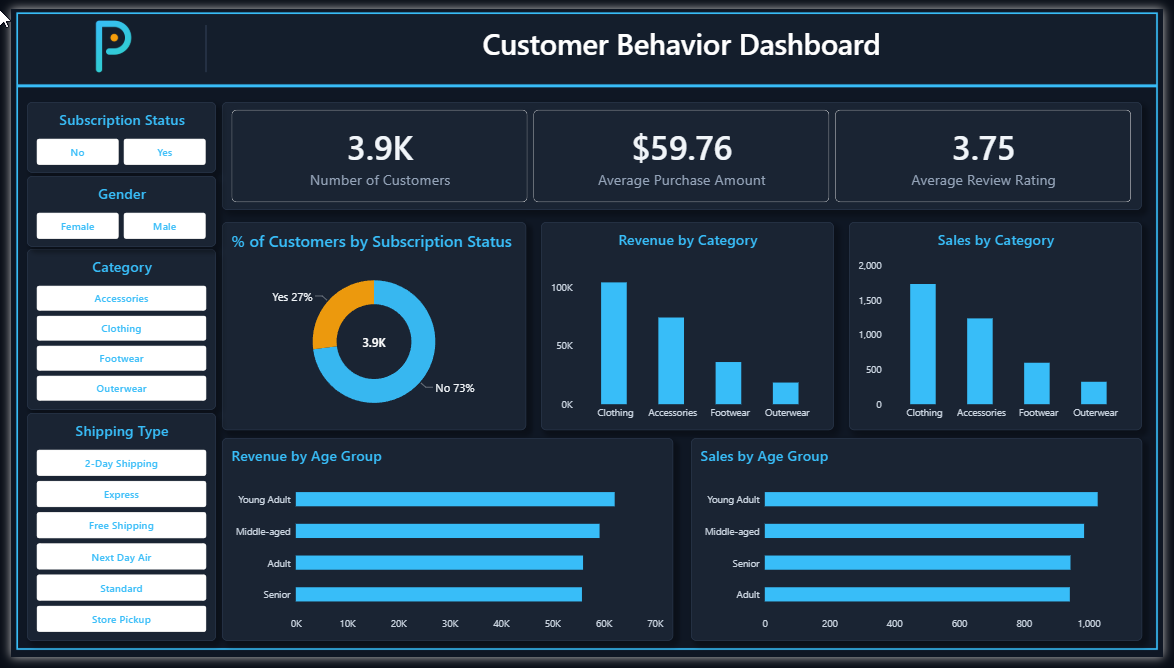

This screenshot's page, from the dashboard's own definition file:
{"tool":"powerbi","page":{"name":"Page 1","canvas":[1920,1080],"ordinal":0},"visuals":[{"type":"image","box":[86.7,0,175,125],"z":0},{"type":"textbox","box":[326.7,13.3,1581.7,111.7],"z":1000},{"type":"cardVisual","fields":{"Data":["_Measures.number_of_customers","_Measures.average_purchase_amount","_Measures.average_review_rating"]},"box":[351.3,155,1533.3,180],"z":2000},{"type":"donutChart","title":"% of Customers by Subscription Status","fields":{"Category":["public customer.subscription_status"],"Y":["CountNonNull(public customer.customer_id)"]},"box":[351.7,355,506.7,346.7],"z":3000},{"type":"clusteredColumnChart","title":"Revenue by Category","fields":{"Category":["public customer.category"],"Y":["Sum(public customer.purchase_amount)"]},"box":[883.3,355,488.3,346.7],"z":4000},{"type":"clusteredColumnChart","title":"Sales by Category","fields":{"Category":["public customer.category"],"Y":["CountNonNull(public customer.customer_id)"]},"box":[1396.7,355,488.3,346.7],"z":5000},{"type":"advancedSlicerVisual","title":"Subscription Status","fields":{"Values":["public customer.subscription_status"]},"box":[26.7,155,315,118.3],"z":6000},{"type":"advancedSlicerVisual","title":"Category","fields":{"Values":["public customer.category"]},"box":[26.7,400.6,315,268.3],"z":7000},{"type":"advancedSlicerVisual","title":"Shipping Type","fields":{"Values":["public customer.shipping_type"]},"box":[26.7,673.3,315,380],"z":8000},{"type":"advancedSlicerVisual","title":"Gender","fields":{"Values":["public customer.gender"]},"box":[26.7,277.8,315,118.3],"z":9000},{"type":"clusteredBarChart","title":"Revenue by Age Group","fields":{"Category":["public customer.age_group"],"Y":["Sum(public customer.purchase_amount)"]},"box":[351.7,715,751.7,338.3],"z":9001},{"type":"clusteredBarChart","title":"Sales by Age Group","fields":{"Category":["public customer.age_group"],"Y":["CountNonNull(public customer.customer_id)"]},"box":[1133.3,715,751.7,338.3],"z":9002}]}

Visuals, with their boxes in screenshot pixels (x1, y1, x2, y2), scaled from the page's 1920x1080 canvas onto the 1174x668 screenshot:
image: (53,0,160,77)
textbox: (200,8,1167,77)
cardVisual - _Measures.number_of_customers x _Measures.average_purchase_amount: (215,96,1152,207)
"% of Customers by Subscription Status" donutChart: (215,220,525,434)
"Revenue by Category" clusteredColumnChart: (540,220,839,434)
"Sales by Category" clusteredColumnChart: (854,220,1153,434)
"Subscription Status" advancedSlicerVisual: (16,96,209,169)
"Category" advancedSlicerVisual: (16,248,209,414)
"Shipping Type" advancedSlicerVisual: (16,416,209,651)
"Gender" advancedSlicerVisual: (16,172,209,245)
"Revenue by Age Group" clusteredBarChart: (215,442,675,651)
"Sales by Age Group" clusteredBarChart: (693,442,1153,651)
